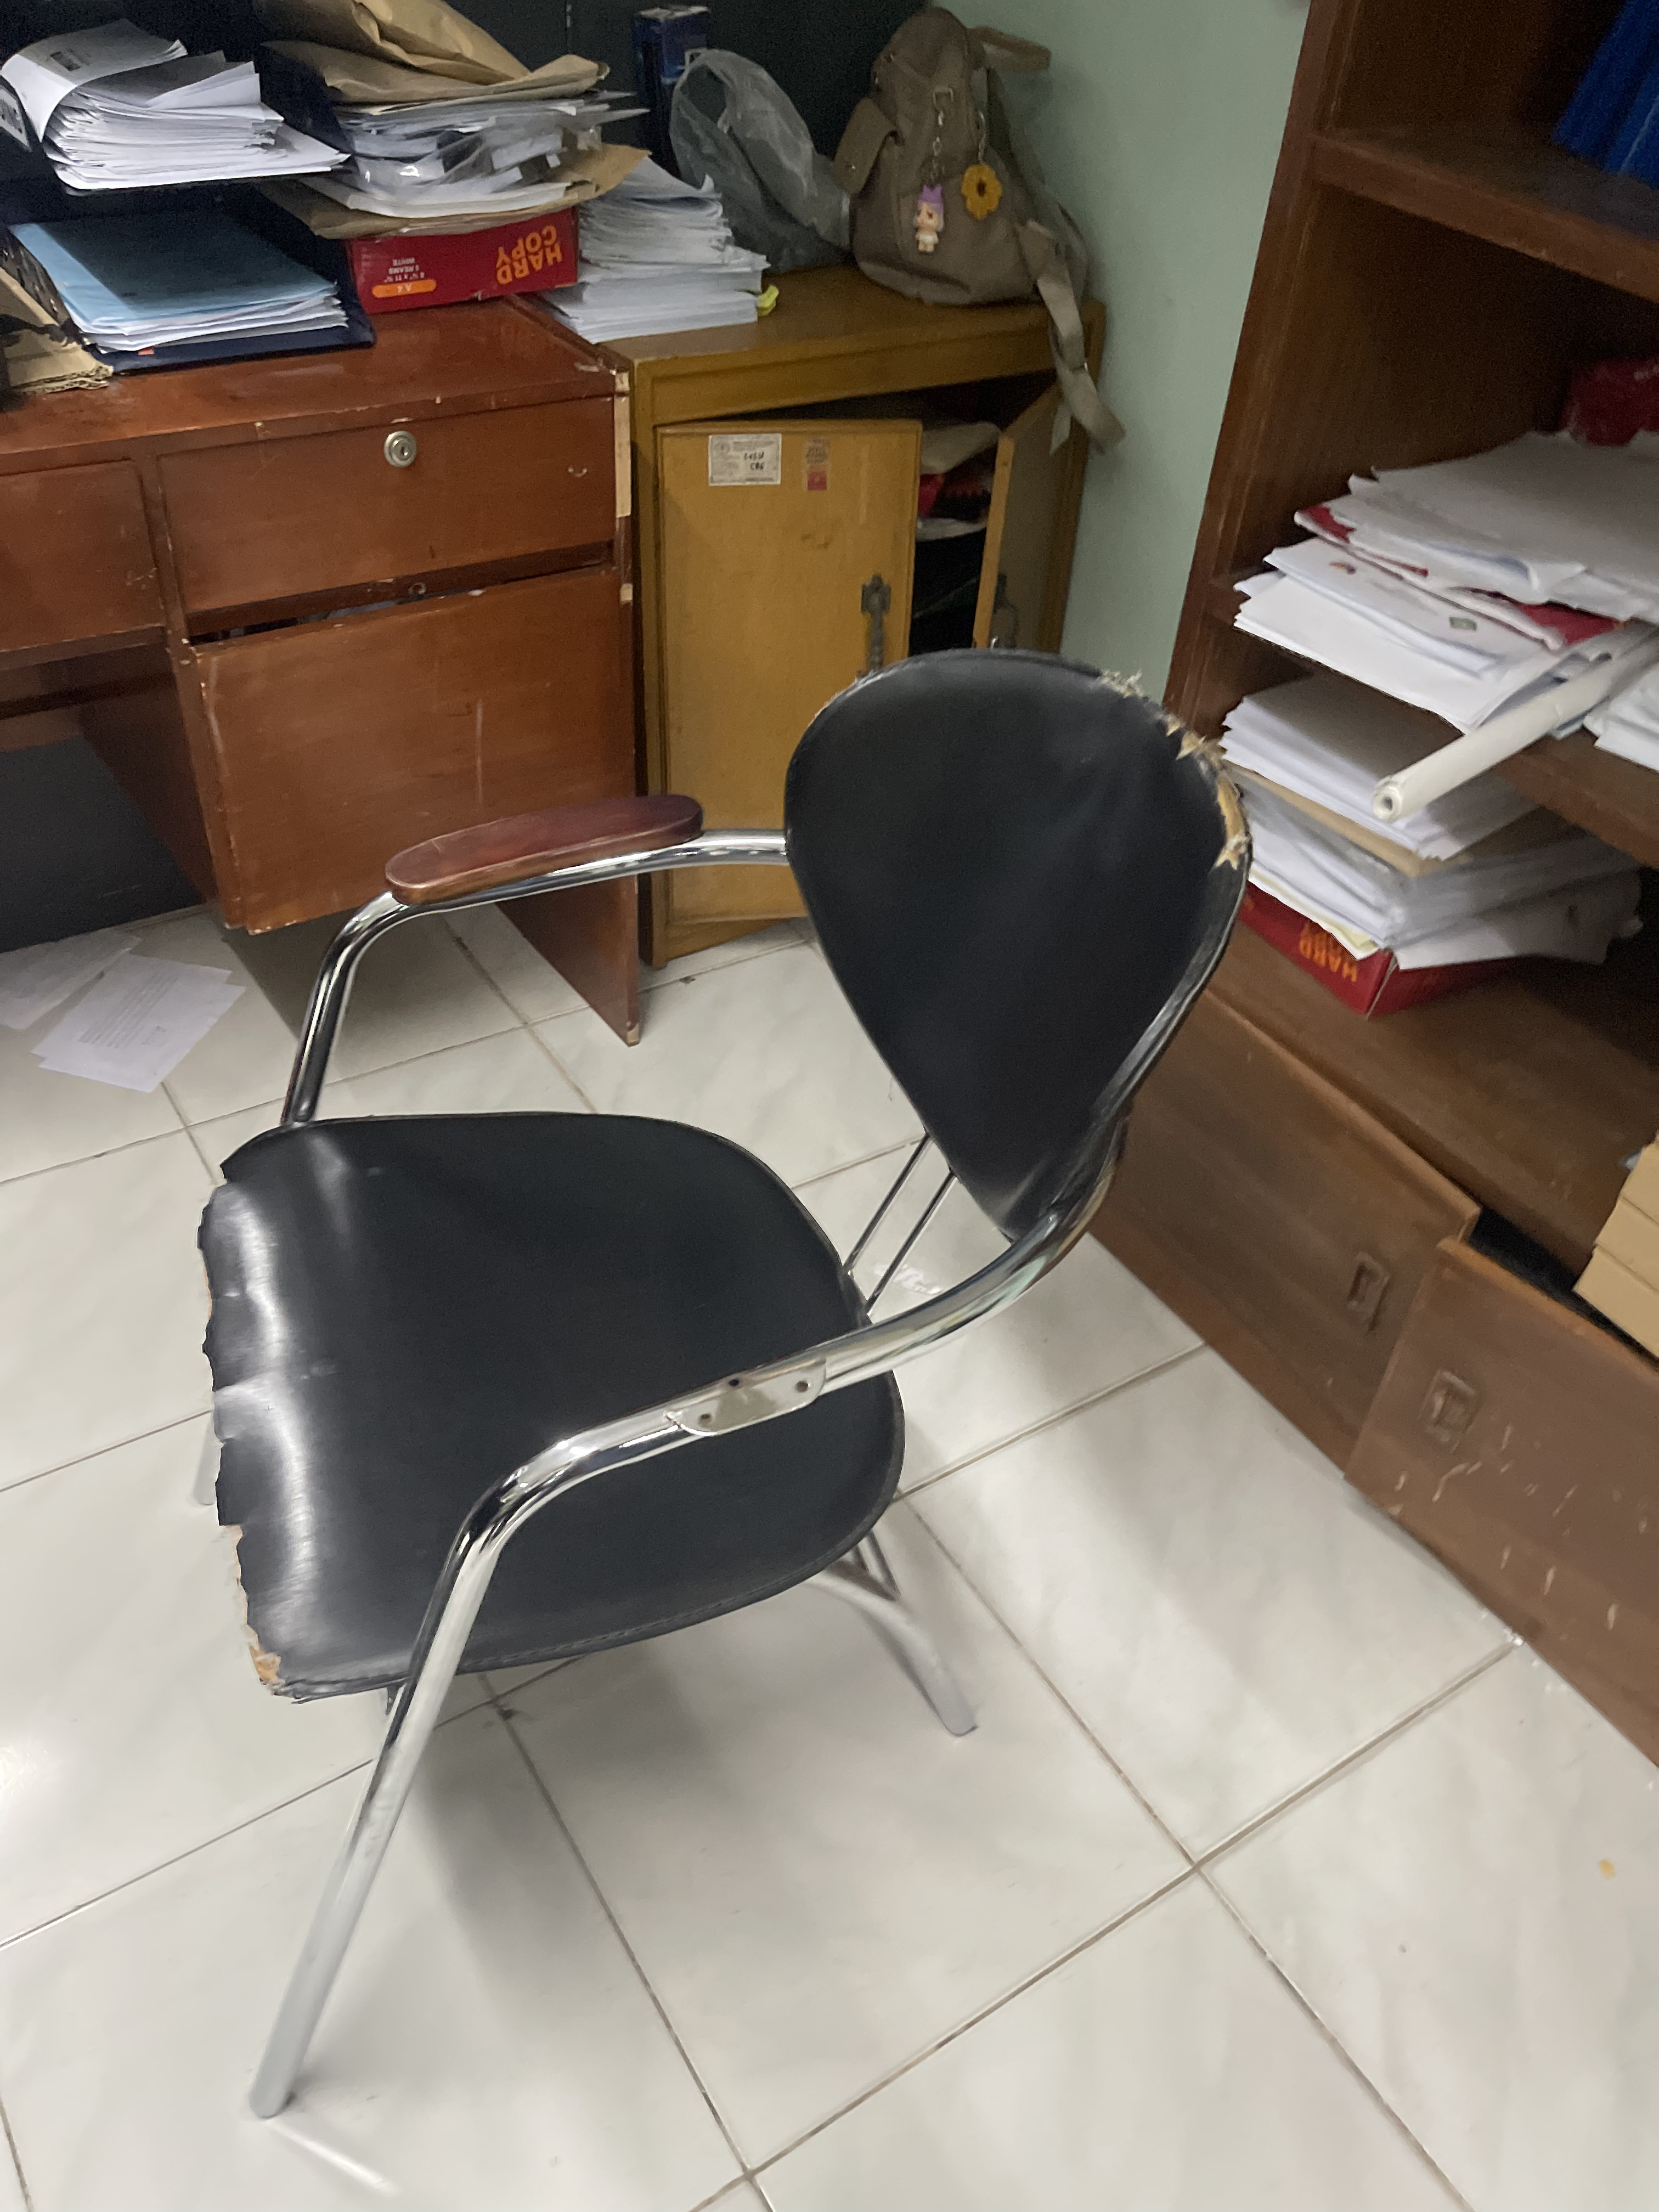chair1: (195, 653, 1256, 2125)
